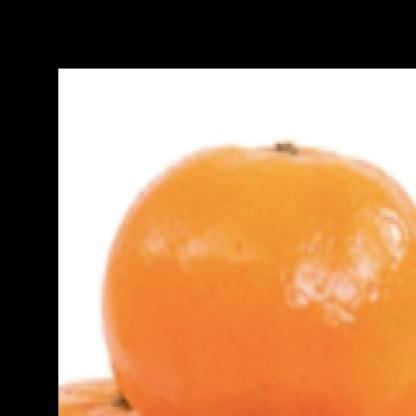fresh: (98, 144, 416, 416)
